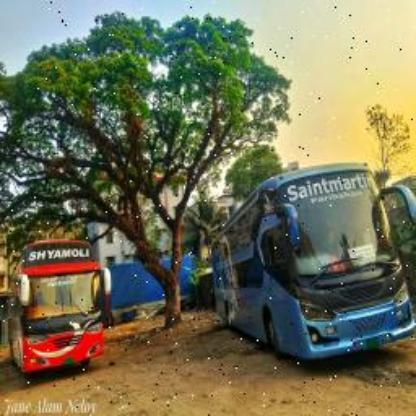bus: (208, 160, 416, 360), (8, 235, 112, 369)
